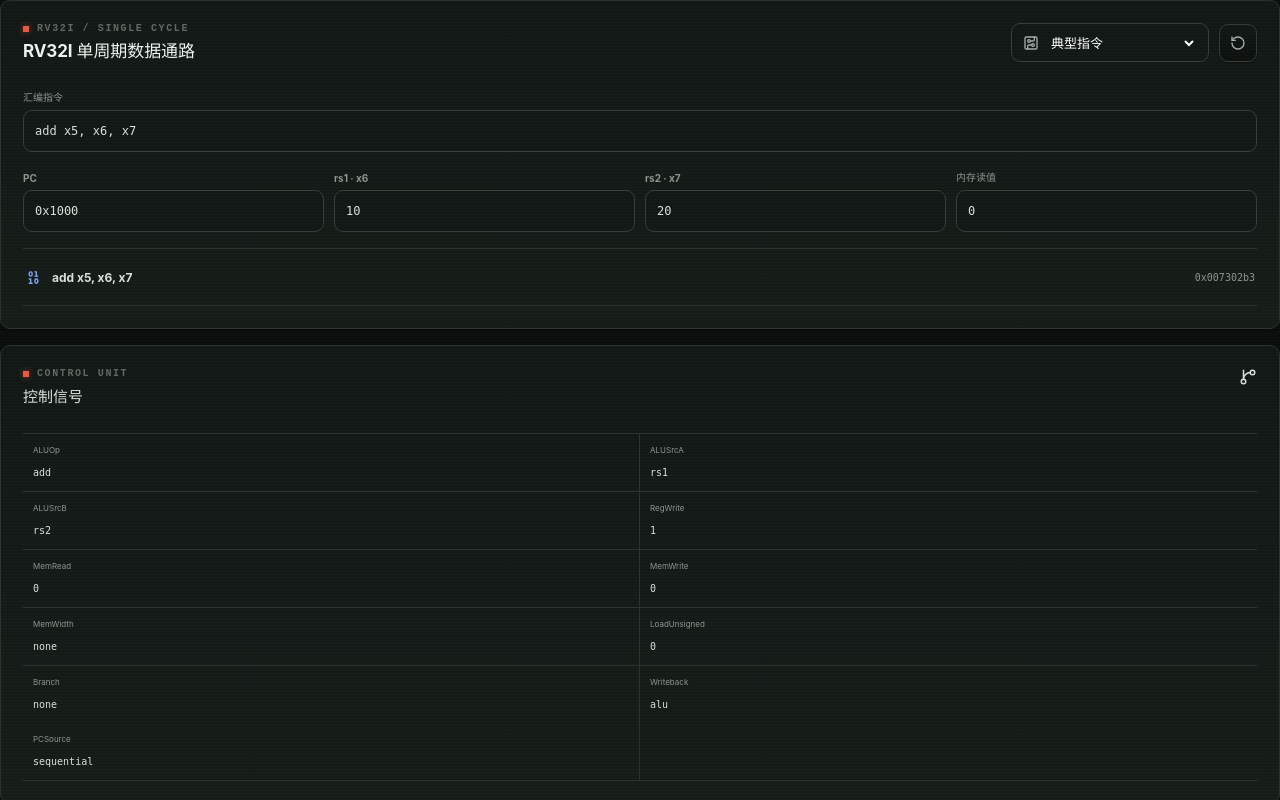
DatapathLabPanel › applies a load preset and exposes the memory-to-writeback path
Select "Load：LW" in the dropdown named "选择数据通路例题" at (1122, 42), box [1047,34,1197,52]
(page scrolled)
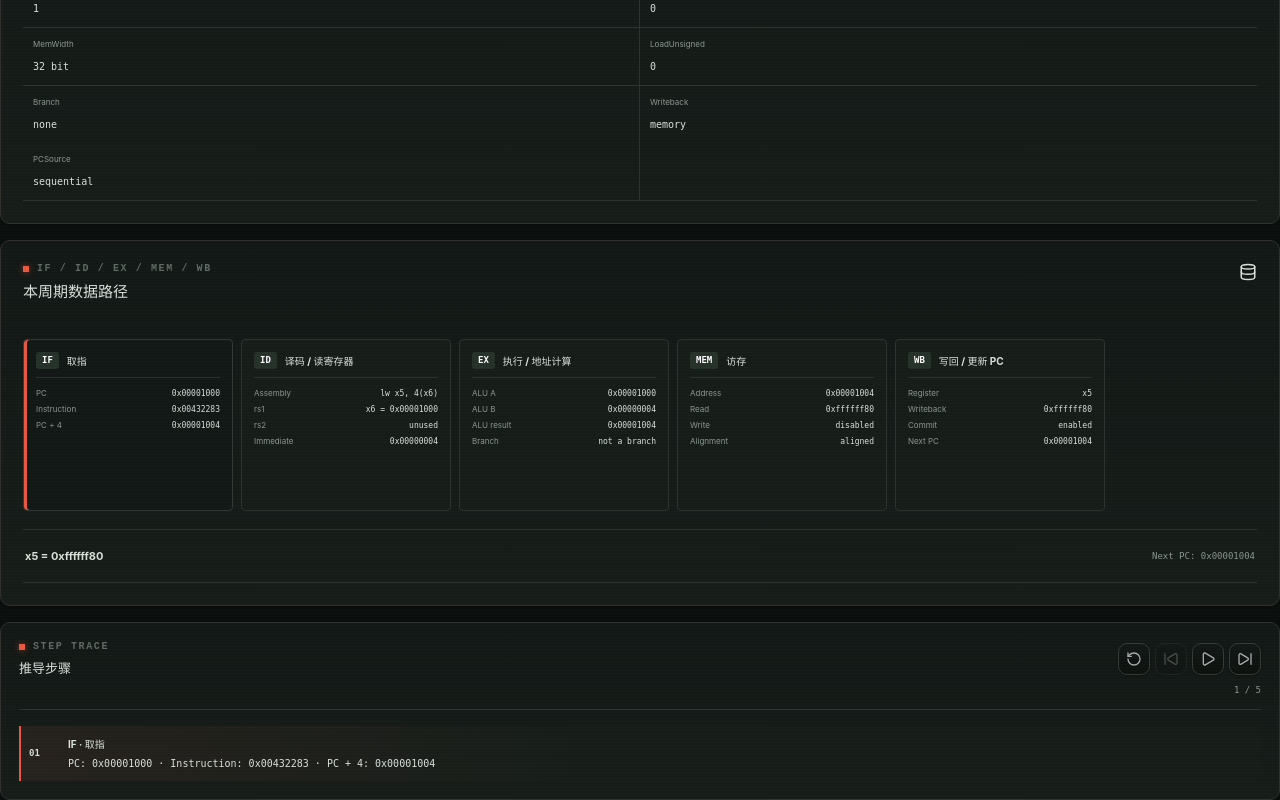
expect the text "memory" is shown: met, box [650,119,686,130]
expect the text "x5 = 0xffffff80" is shown: met, box [25,549,103,563]
